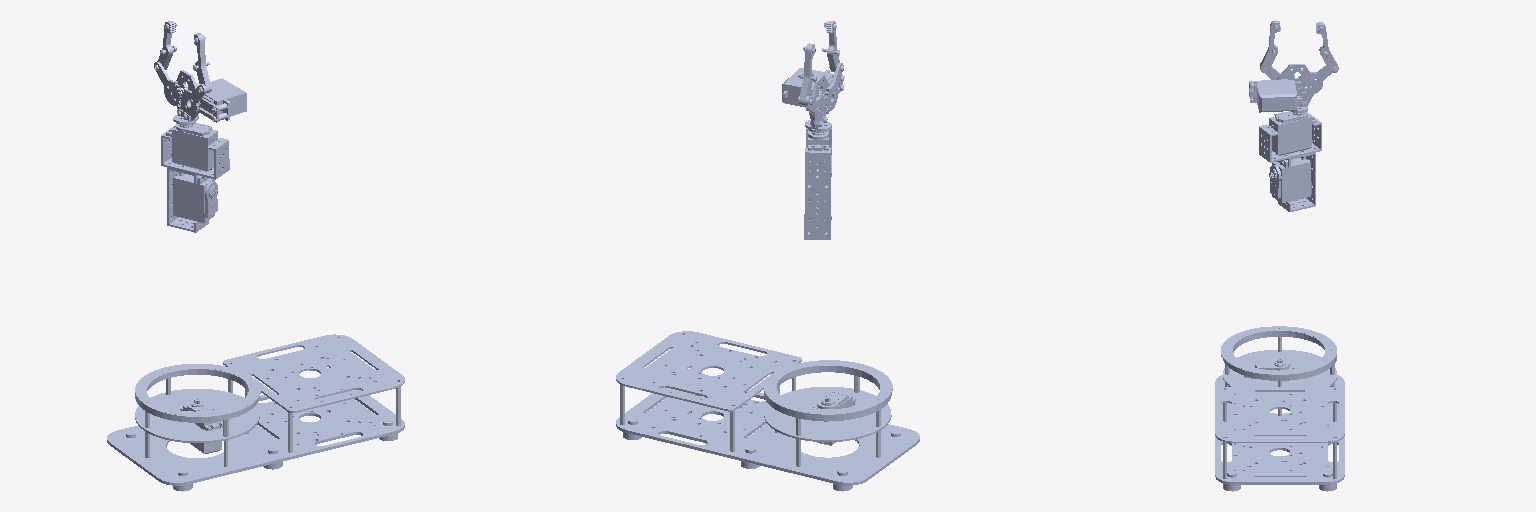
URDF robot description (arm.SLDASM):
<?xml version="1.0" encoding="utf-8"?>
<!-- This URDF was automatically created by SolidWorks to URDF Exporter! Originally created by Stephen Brawner (brawner@gmail.com)
     Commit Version: 1.6.0-4-g7f85cfe  Build Version: 1.6.7995.38578
     For more information, please see http://wiki.ros.org/sw_urdf_exporter -->
<robot
  name="arm.SLDASM">
  <link
    name="base_link">
    <inertial>
      <origin
        xyz="-0.0559381356520999 0.0290055398271713 0.271283561362411"
        rpy="0 0 0" />
      <mass
        value="0.235064989394271" />
      <inertia
        ixx="0.000270092559502218"
        ixy="4.06196531583323E-22"
        ixz="1.2646553039904E-07"
        iyy="0.000959261287268697"
        iyz="1.75867997782058E-07"
        izz="0.000699718413983908" />
    </inertial>
    <visual>
      <origin
        xyz="0 0 0"
        rpy="0 0 0" />
      <geometry>
        <mesh
          filename="package://arm.SLDASM/meshes/base_link.STL" />
      </geometry>
      <material
        name="">
        <color
          rgba="0.792156862745098 0.819607843137255 0.933333333333333 1" />
      </material>
    </visual>
    <collision>
      <origin
        xyz="0 0 0"
        rpy="0 0 0" />
      <geometry>
        <mesh
          filename="package://arm.SLDASM/meshes/base_link.STL" />
      </geometry>
    </collision>
  </link>
  <link
    name="arm_Link1">
    <inertial>
      <origin
        xyz="-0.000380580428849309 0.0184419486359683 -0.0022830303356034"
        rpy="0 0 0" />
      <mass
        value="0.0856139789103628" />
      <inertia
        ixx="4.13766069192451E-05"
        ixy="-4.27113489668865E-08"
        ixz="4.50738468151171E-07"
        iyy="8.07300469806336E-05"
        iyz="-1.73034809257344E-07"
        izz="4.24100687312836E-05" />
    </inertial>
    <visual>
      <origin
        xyz="0 0 0"
        rpy="0 0 0" />
      <geometry>
        <mesh
          filename="package://arm.SLDASM/meshes/arm_Link1.STL" />
      </geometry>
      <material
        name="">
        <color
          rgba="0.792156862745098 0.819607843137255 0.933333333333333 1" />
      </material>
    </visual>
    <collision>
      <origin
        xyz="0 0 0"
        rpy="0 0 0" />
      <geometry>
        <mesh
          filename="package://arm.SLDASM/meshes/arm_Link1.STL" />
      </geometry>
    </collision>
  </link>
  <joint
    name="arm_joint1"
    type="continuous">
    <origin
      xyz="-0.10713 -0.27 0.055092"
      rpy="1.5708 0 0.26475" />
    <parent
      link="base_link" />
    <child
      link="arm_Link1" />
    <axis
      xyz="0 -1 0" />
    <limit
      lower="-1.57"
      upper="1.57"
      effort="10"
      velocity="1" />
  </joint>
  <link
    name="arm_Link2">
    <inertial>
      <origin
        xyz="-0.00126271232811451 0.0504842264334693 -0.00769989863501888"
        rpy="0 0 0" />
      <mass
        value="0.0173145104443779" />
      <inertia
        ixx="1.50133500868196E-05"
        ixy="1.28588409443901E-07"
        ixz="-6.48611196630956E-10"
        iyy="9.87298114243785E-06"
        iyz="-1.03250375066677E-11"
        izz="6.93552159344797E-06" />
    </inertial>
    <visual>
      <origin
        xyz="0 0 0"
        rpy="0 0 0" />
      <geometry>
        <mesh
          filename="package://arm.SLDASM/meshes/arm_Link2.STL" />
      </geometry>
      <material
        name="">
        <color
          rgba="0.792156862745098 0.819607843137255 0.933333333333333 1" />
      </material>
    </visual>
    <collision>
      <origin
        xyz="0 0 0"
        rpy="0 0 0" />
      <geometry>
        <mesh
          filename="package://arm.SLDASM/meshes/arm_Link2.STL" />
      </geometry>
    </collision>
  </link>
  <joint
    name="arm_joint2"
    type="continuous">
    <origin
      xyz="0.0097086 0.03009 -0.0023964"
      rpy="-0.0047341 0.24187 -0.019756" />
    <parent
      link="arm_Link1" />
    <child
      link="arm_Link2" />
    <axis
      xyz="-8.0295E-05 0 -1" />
    <limit
      lower="-1.57"
      upper="1.57"
      effort="10"
      velocity="1" />
  </joint>
  <link
    name="arm_Link3">
    <inertial>
      <origin
        xyz="-7.59417371959392E-07 -0.0198009919668684 -0.00945781260201439"
        rpy="0 0 0" />
      <mass
        value="0.0469201885614541" />
      <inertia
        ixx="2.08213775143729E-05"
        ixy="-1.41213633506396E-11"
        ixz="-6.21443981321135E-10"
        iyy="1.13835679307676E-05"
        iyz="-1.75867997215178E-07"
        izz="1.30818905539686E-05" />
    </inertial>
    <visual>
      <origin
        xyz="0 0 0"
        rpy="0 0 0" />
      <geometry>
        <mesh
          filename="package://arm.SLDASM/meshes/arm_Link3.STL" />
      </geometry>
      <material
        name="">
        <color
          rgba="0.792156862745098 0.819607843137255 0.933333333333333 1" />
      </material>
    </visual>
    <collision>
      <origin
        xyz="0 0 0"
        rpy="0 0 0" />
      <geometry>
        <mesh
          filename="package://arm.SLDASM/meshes/arm_Link3.STL" />
      </geometry>
    </collision>
  </link>
  <joint
    name="arm_joint3"
    type="continuous">
    <origin
      xyz="-0.0025242 0.10097 0"
      rpy="0 -0.00016057 -3.1166" />
    <parent
      link="arm_Link2" />
    <child
      link="arm_Link3" />
    <axis
      xyz="-8.0295E-05 0 -1" />
    <limit
      lower="-1.57"
      upper="1.57"
      effort="10"
      velocity="1" />
  </joint>
  <link
    name="arm_Link4">
    <inertial>
      <origin
        xyz="-7.85495715305284E-07 0.0163736511886758 -0.00978259386825203"
        rpy="0 0 0" />
      <mass
        value="0.0765258666785306" />
      <inertia
        ixx="2.66261902408435E-05"
        ixy="-8.84438054553948E-20"
        ixz="-8.48188814758824E-10"
        iyy="1.60628144332821E-05"
        iyz="-1.17360385309024E-20"
        izz="1.60628145013875E-05" />
    </inertial>
    <visual>
      <origin
        xyz="0 0 0"
        rpy="0 0 0" />
      <geometry>
        <mesh
          filename="package://arm.SLDASM/meshes/arm_Link4.STL" />
      </geometry>
      <material
        name="">
        <color
          rgba="0.792156862745098 0.819607843137255 0.933333333333333 1" />
      </material>
    </visual>
    <collision>
      <origin
        xyz="0 0 0"
        rpy="0 0 0" />
      <geometry>
        <mesh
          filename="package://arm.SLDASM/meshes/arm_Link4.STL" />
      </geometry>
    </collision>
  </link>
  <joint
    name="arm_joint4"
    type="continuous">
    <origin
      xyz="0 -0.0915 0.00060959"
      rpy="0 -0.00016059 3.1416" />
    <parent
      link="arm_Link3" />
    <child
      link="arm_Link4" />
    <axis
      xyz="-8.0295E-05 0 -1" />
    <limit
      lower="-1.57"
      upper="1.57"
      effort="10"
      velocity="1" />
  </joint>
  <link
    name="gripper_Link">
    <inertial>
      <origin
        xyz="-0.0245680525776589 0.0274397194368598 -0.0222177482287967"
        rpy="0 0 0" />
      <mass
        value="0.0390911743102487" />
      <inertia
        ixx="7.40750989896945E-06"
        ixy="1.26780785874517E-12"
        ixz="-1.75989713502629E-07"
        iyy="9.89371312760785E-06"
        iyz="1.5710282247013E-08"
        izz="5.89164823044217E-06" />
    </inertial>
    <visual>
      <origin
        xyz="0 0 0"
        rpy="0 0 0" />
      <geometry>
        <mesh
          filename="package://arm.SLDASM/meshes/gripper_Link.STL" />
      </geometry>
      <material
        name="">
        <color
          rgba="0.792156862745098 0.819607843137255 0.933333333333333 1" />
      </material>
    </visual>
    <collision>
      <origin
        xyz="0 0 0"
        rpy="0 0 0" />
      <geometry>
        <mesh
          filename="package://arm.SLDASM/meshes/gripper_Link.STL" />
      </geometry>
    </collision>
  </link>
  <joint
    name="gripper_joint"
    type="continuous">
    <origin
      xyz="-0.0064346 0.066247 -0.021069"
      rpy="3.1416 0.40529 3.1416" />
    <parent
      link="arm_Link4" />
    <child
      link="gripper_Link" />
    <axis
      xyz="0 -1 0" />
    <limit
      lower="-1.57"
      upper="1.57"
      effort="10"
      velocity="1" />
  </joint>
  <link
    name="end_Link2">
    <inertial>
      <origin
        xyz="-0.0937628645641986 0.392527344713982 0.252157172838664"
        rpy="0 0 0" />
      <mass
        value="0.0055020160484979" />
      <inertia
        ixx="1.23367851048737E-06"
        ixy="-1.80685890155106E-11"
        ixz="-3.24139716279196E-11"
        iyy="4.2956025085267E-07"
        iyz="-2.24927161337994E-07"
        izz="8.29848844693928E-07" />
    </inertial>
    <visual>
      <origin
        xyz="0 0 0"
        rpy="0 0 0" />
      <geometry>
        <mesh
          filename="package://arm.SLDASM/meshes/end_Link2.STL" />
      </geometry>
      <material
        name="">
        <color
          rgba="0.792156862745098 0.819607843137255 0.933333333333333 1" />
      </material>
    </visual>
    <collision>
      <origin
        xyz="0 0 0"
        rpy="0 0 0" />
      <geometry>
        <mesh
          filename="package://arm.SLDASM/meshes/end_Link2.STL" />
      </geometry>
    </collision>
  </link>
  <joint
    name="end_joint2"
    type="fixed">
    <origin
      xyz="0.090025 -0.41139 -0.0025945"
      rpy="-0.51158 1.028E-05 3.9309E-05" />
    <parent
      link="gripper_Link" />
    <child
      link="end_Link2" />
    <axis
      xyz="0 0 0" />
    <limit
      lower="-1.57"
      upper="1.57"
      effort="10"
      velocity="1" />
  </joint>
  <link
    name="end_Link1">
    <inertial>
      <origin
        xyz="-0.00368912775195826 0.0298917848785729 0.00672175796450536"
        rpy="0 0 0" />
      <mass
        value="0.00527568125483211" />
      <inertia
        ixx="1.22637525120268E-06"
        ixy="-2.60880878100607E-11"
        ixz="-3.67120372105377E-11"
        iyy="4.82955625911365E-07"
        iyz="-3.25046161090952E-07"
        izz="7.68871854263911E-07" />
    </inertial>
    <visual>
      <origin
        xyz="0 0 0"
        rpy="0 0 0" />
      <geometry>
        <mesh
          filename="package://arm.SLDASM/meshes/end_Link1.STL" />
      </geometry>
      <material
        name="">
        <color
          rgba="0.792156862745098 0.819607843137255 0.933333333333333 1" />
      </material>
    </visual>
    <collision>
      <origin
        xyz="0 0 0"
        rpy="0 0 0" />
      <geometry>
        <mesh
          filename="package://arm.SLDASM/meshes/end_Link1.STL" />
      </geometry>
    </collision>
  </link>
  <joint
    name="end_joint1"
    type="continuous">
    <origin
      xyz="0 0.028663 -0.01525"
      rpy="-0.55028 1.1853E-05 4.1989E-05" />
    <parent
      link="gripper_Link" />
    <child
      link="end_Link1" />
    <axis
      xyz="1 4.5406E-05 -4.6232E-05" />
    <limit
      lower="-1.57"
      upper="1.57"
      effort="10"
      velocity="1" />
  </joint>
</robot>

--- What the picture shows (computed from the rendered views, not written in the file) ---
Views: 3 orthographic renders of the robot side by side, from view 1: azimuth 30°, elevation 25°; view 2: azimuth 150°, elevation 25°; view 3: azimuth 270°, elevation 25°.
Robot: arm.SLDASM — 8 links, 7 joints (6 continuous, 1 fixed); root link base_link; default pose: every joint at zero.
Visible links, largest first — view 1: base_link, arm_Link4, gripper_Link, end_Link1, end_Link2; view 2: base_link, arm_Link4, gripper_Link, end_Link2, end_Link1; view 3: base_link, arm_Link4, gripper_Link, end_Link2, end_Link1.
Link boxes in pixels (<box>): base_link: <box>107,334,404,491</box>; arm_Link4: <box>161,123,229,232</box>; gripper_Link: <box>173,70,246,125</box>; end_Link1: <box>180,33,211,115</box>; end_Link2: <box>154,21,181,106</box>; base_link: <box>616,331,919,491</box>; arm_Link4: <box>804,128,831,239</box>; gripper_Link: <box>782,68,844,132</box>; end_Link2: <box>798,43,826,122</box>; end_Link1: <box>822,21,843,113</box>; base_link: <box>1215,326,1344,491</box>; arm_Link4: <box>1259,111,1321,211</box>; gripper_Link: <box>1249,64,1315,112</box>; end_Link2: <box>1298,22,1338,93</box>; end_Link1: <box>1260,20,1294,79</box>.
Size in the robot's own frame: 0.27 by 0.135 by 0.4514 metres.
Meshes: 8 distinct files referenced, 5 mesh visuals loaded (5 binary STL); not drawn: 3 (reference not matched to a file when rendering).
